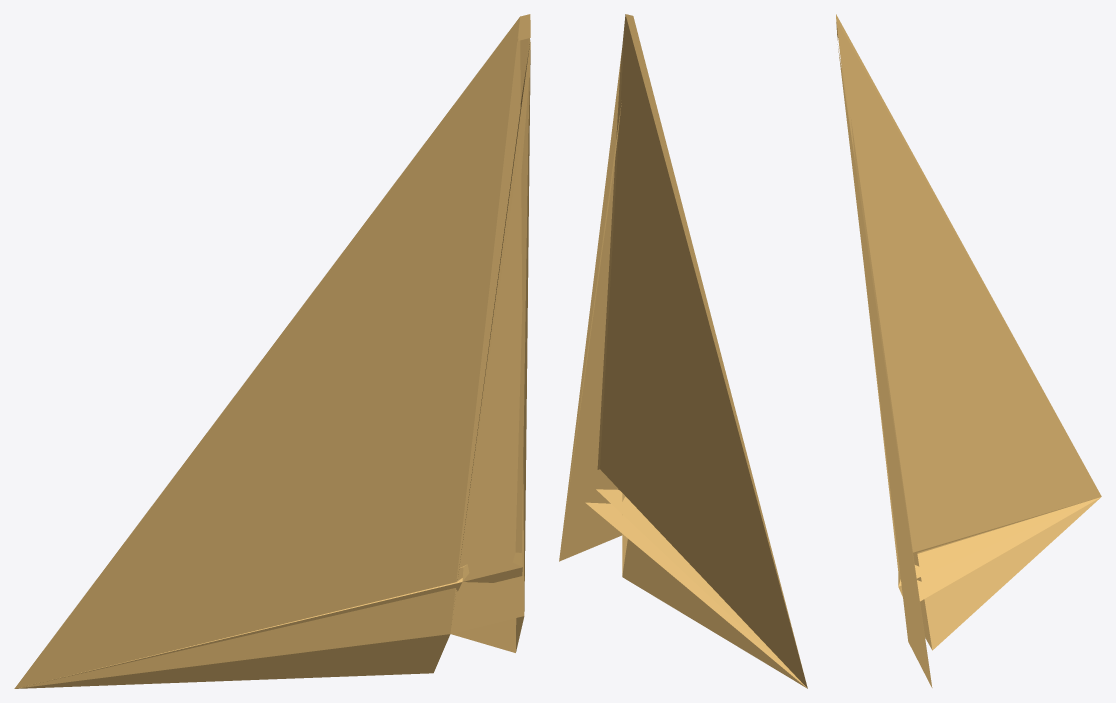
File: S.S._Dolphin_part.008.obj
3 renders of one model, left to right at view 1: azimuth 30°, elevation 25°; view 2: azimuth 150°, elevation 25°; view 3: azimuth 270°, elevation 25°, orthographic. The views are drawn at different scales.
Visible parts, largest first — view 1: S.S._Dolphin_part.008; view 2: S.S._Dolphin_part.008; view 3: S.S._Dolphin_part.008.
Boxes of the visible parts, bbox=[...] form: S.S._Dolphin_part.008: bbox=[14, 14, 530, 688]; S.S._Dolphin_part.008: bbox=[559, 14, 807, 688]; S.S._Dolphin_part.008: bbox=[836, 14, 1101, 687].
Bounding box in the file's own units: 2.09 × 3.32 × 1.22.
